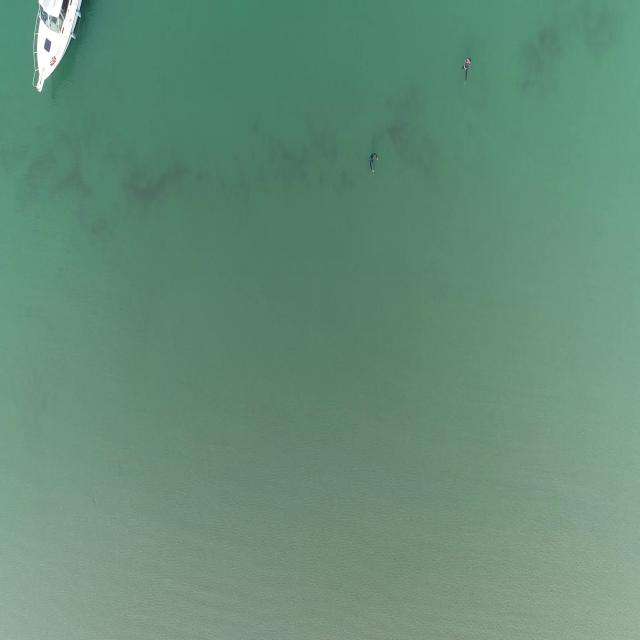boat: (29, 0, 84, 96)
person: (462, 55, 474, 84), (367, 152, 381, 174)
